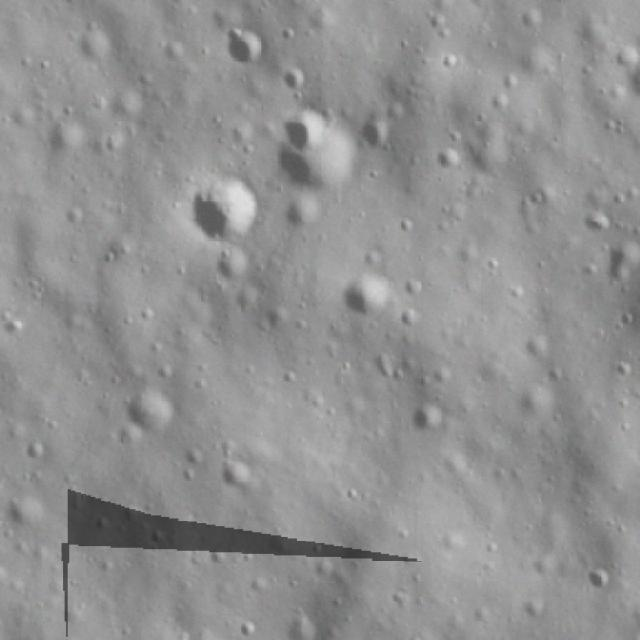crater: (264, 109, 362, 202), (183, 173, 266, 252), (119, 381, 181, 445), (338, 269, 399, 326), (272, 103, 328, 151), (220, 22, 271, 72), (208, 253, 264, 292), (408, 401, 452, 448), (223, 451, 262, 504), (603, 243, 640, 294), (575, 554, 619, 592), (359, 118, 390, 162), (434, 144, 468, 176), (277, 72, 305, 98), (637, 578, 640, 607)
